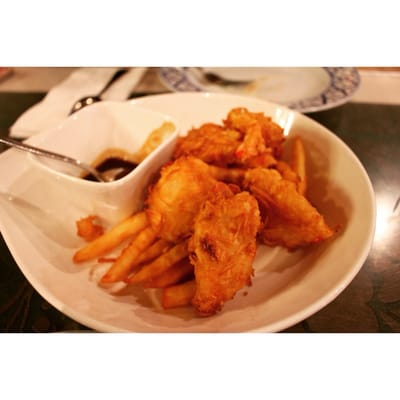salad: (0, 136, 104, 182)
sushi: (0, 100, 180, 244)
